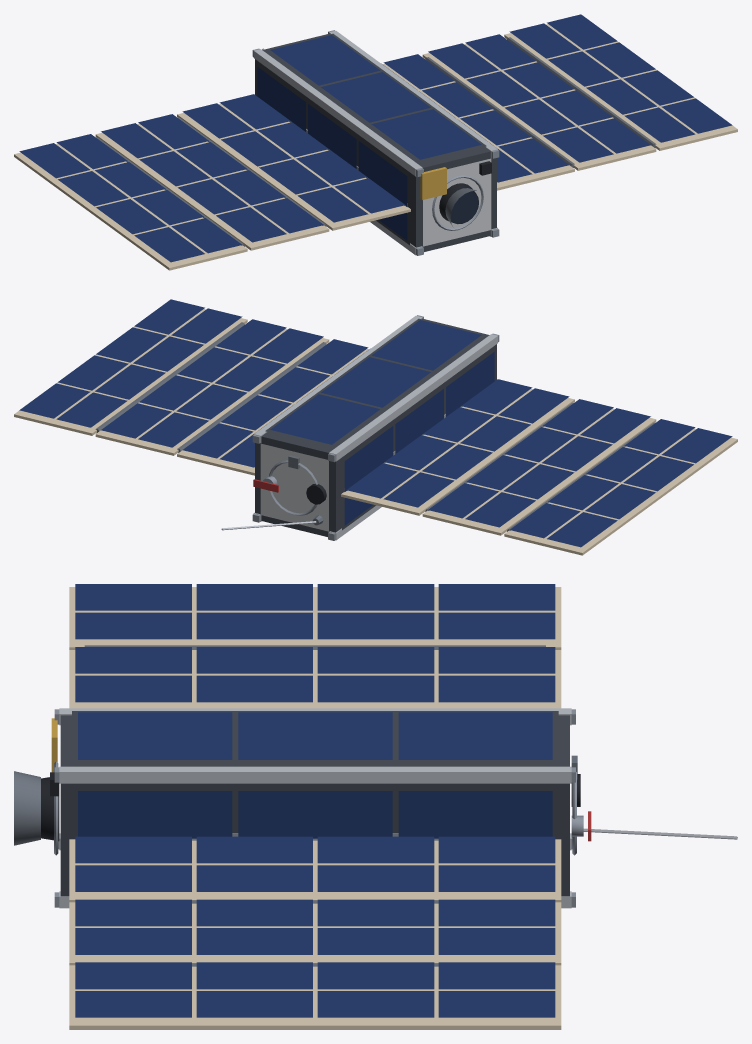
Rendered from cubesat-3u-wings.glb.
3 renders of one model, top to bottom at view 1: azimuth 30°, elevation 25°; view 2: azimuth 150°, elevation 25°; view 3: azimuth 270°, elevation 25°, orthographic. The views are drawn at different scales.
Parts seen in each view (by area): view 1: solar-panel, body; view 2: solar-panel, body; view 3: solar-panel, body.
Boxes of the visible parts, x1,y1,x2,y2 form: solar-panel: (19,14,732,262); body: (14,24,737,270); solar-panel: (19,299,732,547); body: (14,309,737,555); solar-panel: (75,584,555,1017); body: (14,587,591,1029).
Bounding box in the file's own units: 0.69 × 0.106 × 0.4811.
